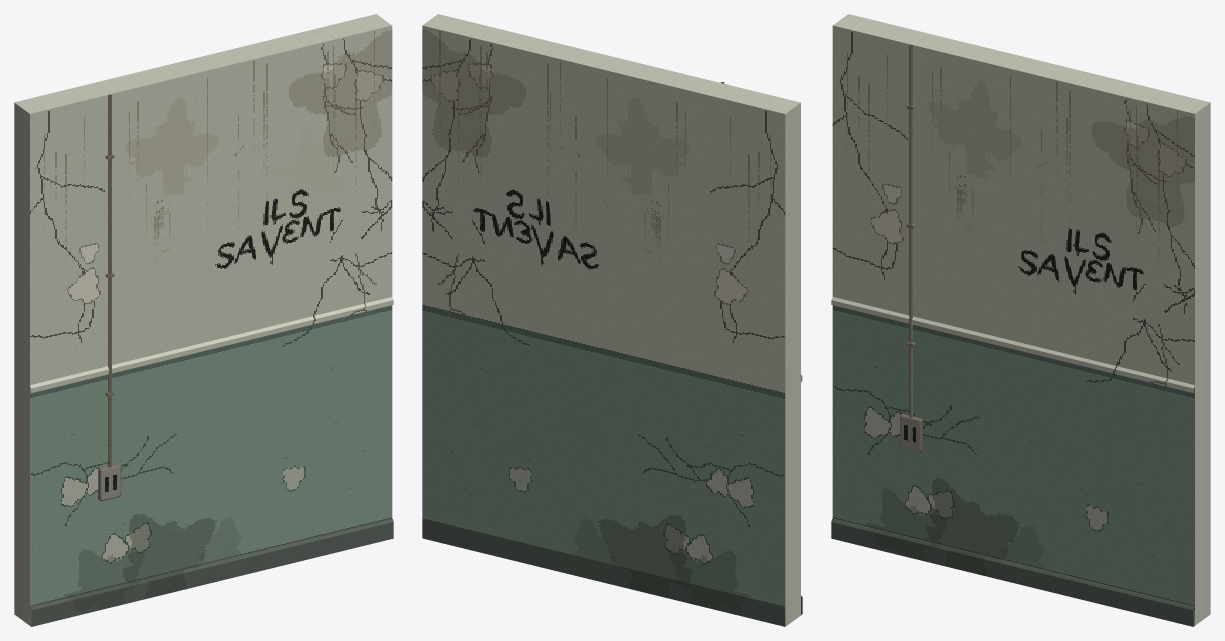
Rendered from wall_4_ils_savent.glb.
3 renders of one model, left to right at view 1: azimuth 30°, elevation 25°; view 2: azimuth 150°, elevation 25°; view 3: azimuth 330°, elevation 25°, orthographic.
Visible parts, largest first — view 1: wall_body, conduit_pipe, outlet_box; view 2: wall_body; view 3: wall_body, conduit_pipe, outlet_box.
Part boxes in pixels (x1,y1,x2,y2): wall_body: [14, 14, 393, 626]; conduit_pipe: [108, 94, 111, 467]; outlet_box: [98, 463, 121, 501]; wall_body: [422, 14, 802, 626]; wall_body: [831, 14, 1210, 626]; conduit_pipe: [909, 44, 912, 418]; outlet_box: [900, 414, 922, 451].
Bounding box in the file's own units: 2 × 2.7 × 0.17.
1 material, 1 textured.
